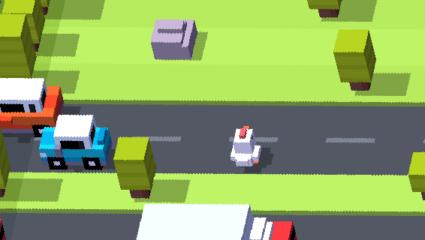hen: (231, 126, 263, 166)
obstacle: (140, 203, 252, 239), (56, 114, 114, 168), (0, 78, 54, 133), (333, 29, 375, 90), (0, 15, 38, 79), (116, 137, 155, 195), (150, 18, 198, 59), (1, 0, 45, 43), (251, 218, 296, 240), (408, 151, 425, 198), (306, 0, 346, 10)
